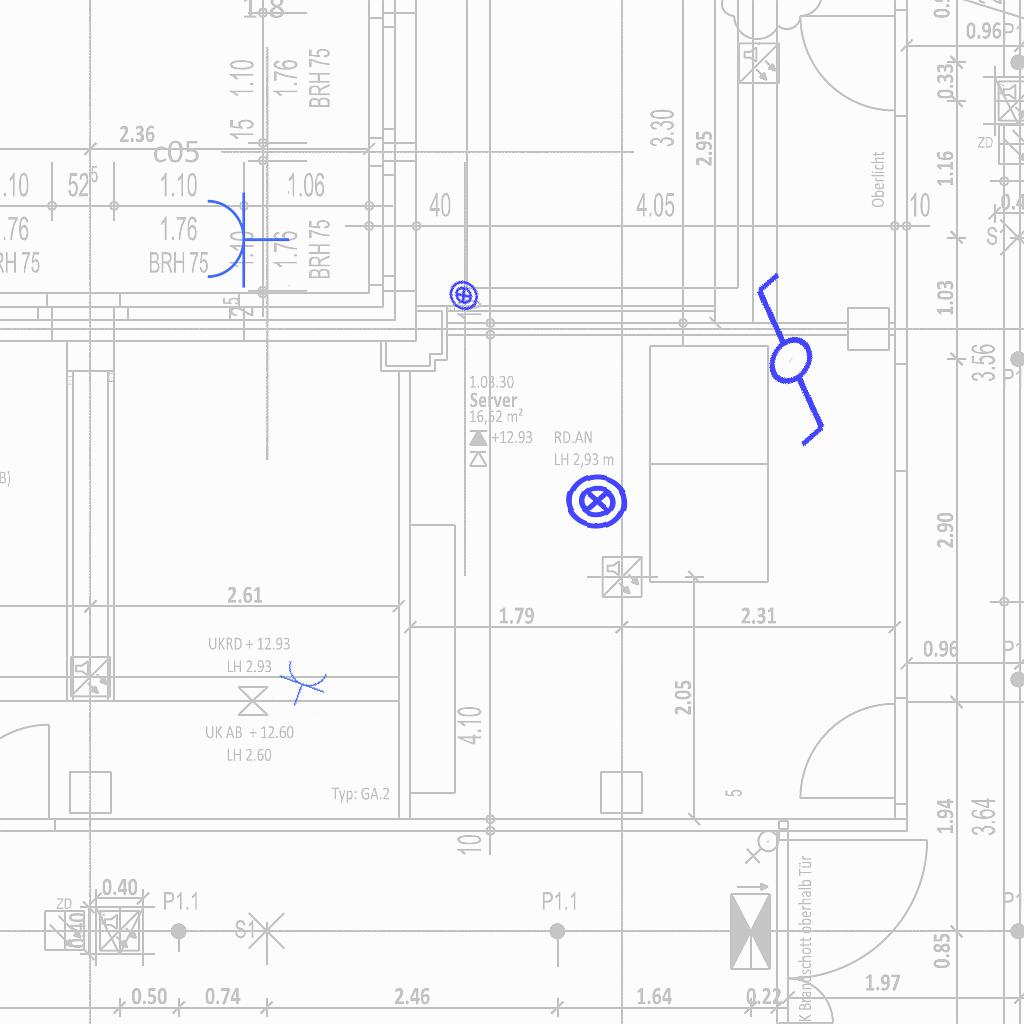Schukosteckdose_einfach: (203, 189, 290, 289), (271, 656, 333, 715)
Taster_beleuchtet: (562, 466, 632, 536), (440, 272, 487, 319)
Wechselschalter: (681, 260, 888, 472)
